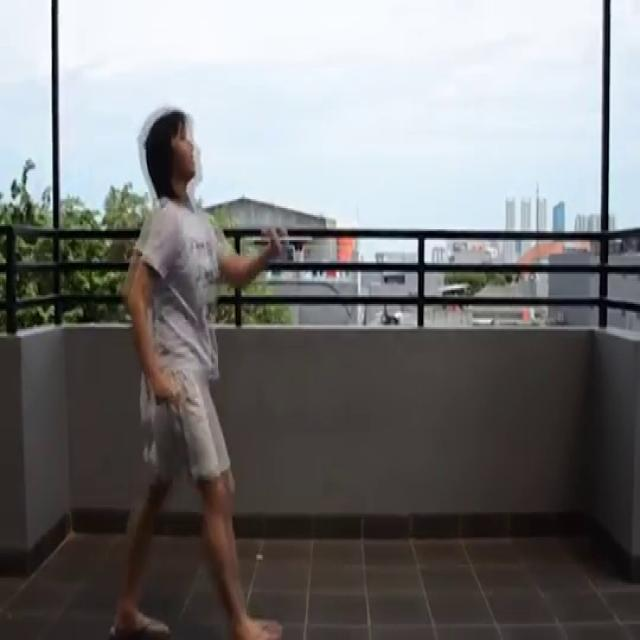normal: (118, 101, 292, 640)
